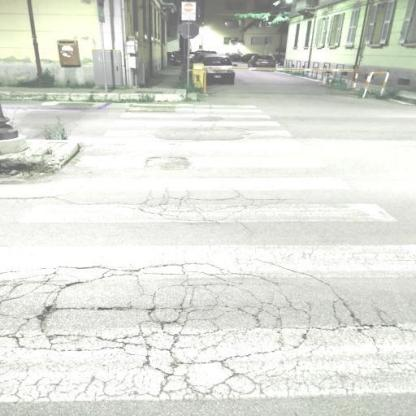crosswalk: (13, 176, 406, 236), (72, 136, 335, 167)
